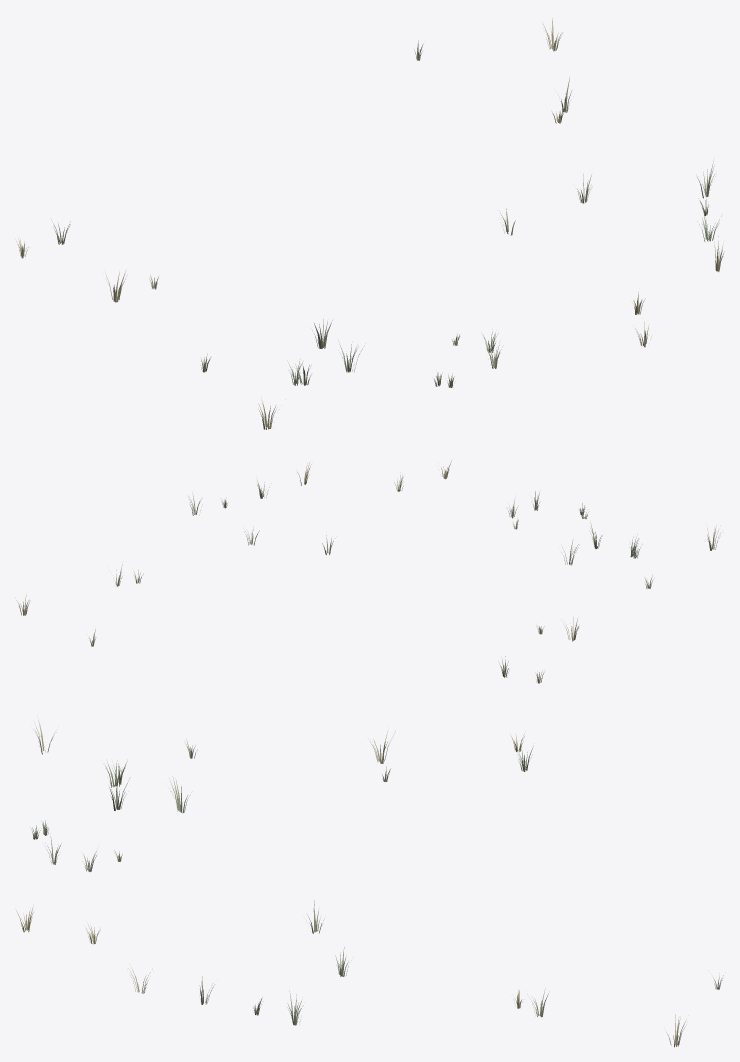
Rendered from AE_Grass_-1_-2.fbx.
3 views of the same model, one above another, from view 1: azimuth 30°, elevation 25°; view 2: azimuth 150°, elevation 25°; view 3: azimuth 270°, elevation 25° (orthographic). The views are drawn at different scales.
Parts seen in each view (by area): view 1: AE_Grass_-1_-2_LOD0; view 2: AE_Grass_-1_-2_LOD0; view 3: AE_Grass_-1_-2_LOD0.
Part boxes in pixels (x1=…): AE_Grass_-1_-2_LOD0: x1=15, y1=18, x2=724, y2=429; AE_Grass_-1_-2_LOD0: x1=16, y1=461, x2=718, y2=683; AE_Grass_-1_-2_LOD0: x1=16, y1=720, x2=723, y2=1047.
Size of what is drawn, in the model's own units: 1821 by 104 by 1805.
